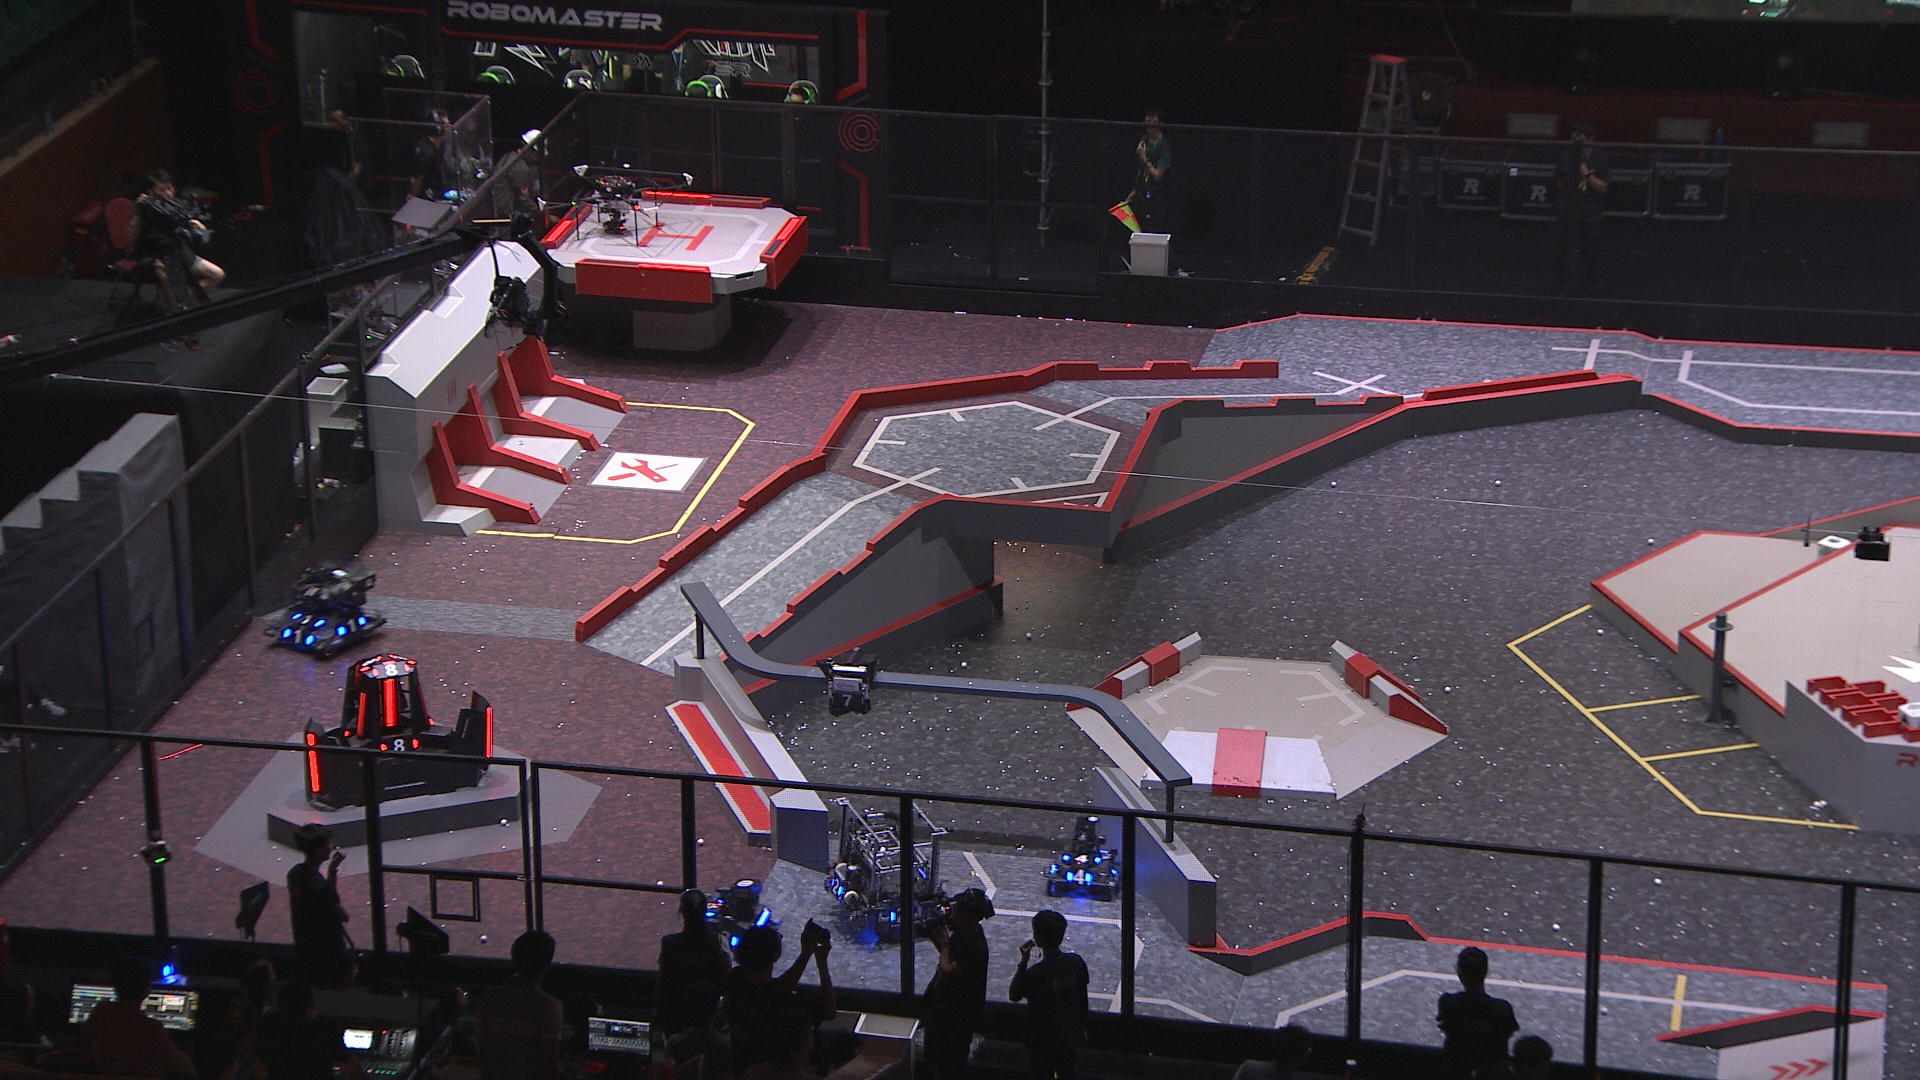armor: (302, 733, 323, 794), (378, 675, 398, 728), (353, 690, 368, 740), (378, 735, 419, 752), (335, 615, 367, 636), (282, 629, 318, 647), (483, 705, 495, 760), (1064, 866, 1095, 887), (829, 692, 862, 709), (371, 662, 413, 675), (1059, 851, 1101, 864), (291, 612, 324, 626), (703, 897, 723, 920), (828, 877, 844, 895)
base: (299, 654, 495, 808)
car: (822, 796, 951, 936), (258, 564, 381, 665), (686, 878, 783, 956), (1038, 816, 1122, 902)
watcher: (818, 646, 878, 719)
